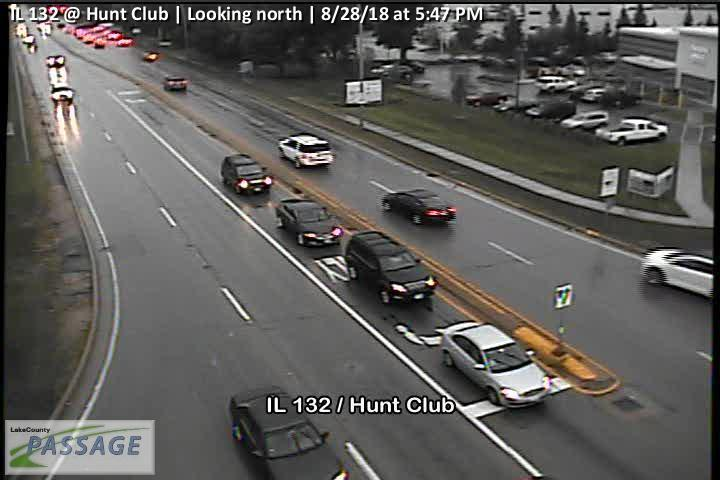SUV: (345, 231, 437, 306), (640, 248, 714, 298), (222, 153, 274, 194), (279, 132, 335, 169), (561, 109, 609, 133), (525, 100, 576, 121), (534, 75, 578, 92), (377, 66, 416, 82)
Sedan: (228, 383, 349, 480), (441, 320, 552, 407), (274, 199, 343, 247), (383, 189, 456, 225), (597, 116, 669, 147), (465, 88, 509, 108), (494, 99, 535, 112), (569, 81, 605, 95), (582, 86, 614, 101), (50, 84, 74, 103), (164, 75, 186, 90), (46, 55, 65, 67)
